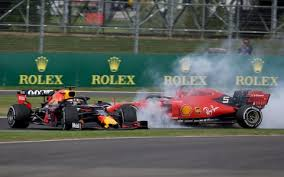FormulaOneCar: (108, 83, 271, 132), (7, 82, 147, 137)
